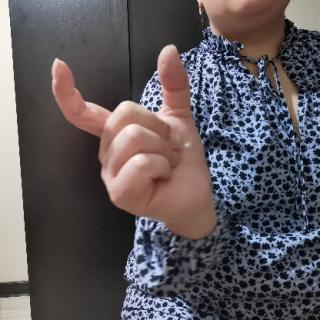NOON: (44, 36, 214, 232)
